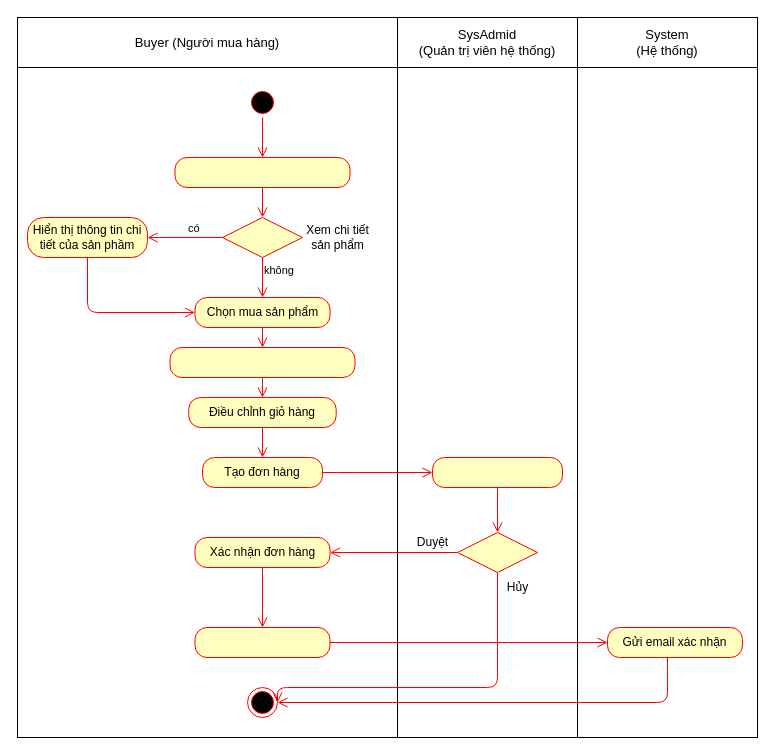
Image size: 775x756. Some labels were removed from this diagram. Each missing label, with the centre of its shape:
Duyệt danh sách sản phẩm: the point at 262,172
Phê duyệt đơn hàng: the point at 497,472
Thanh toán đơn hàng: the point at 262,642
Thêm sản phẩm vào giỏ hàng: the point at 262,362
